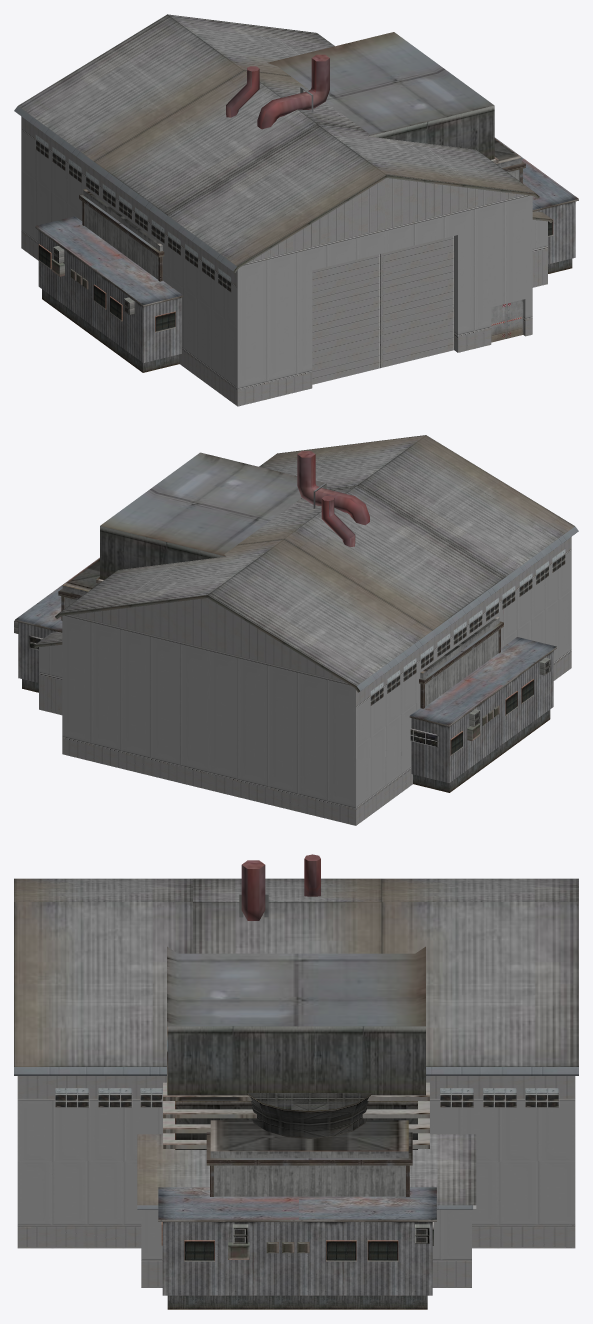
File: port_sheds.glb
3 renders of one model, top to bottom at view 1: azimuth 30°, elevation 25°; view 2: azimuth 150°, elevation 25°; view 3: azimuth 270°, elevation 25°, orthographic. The views are drawn at different scales.
Parts seen in each view (by area): view 1: shed_warehouse_3, shed_works_1, shed_generic_4, shed_works_2; view 2: shed_warehouse_3, shed_works_1, shed_generic_4, shed_works_2; view 3: shed_warehouse_3, shed_works_1, shed_generic_4, shed_works_2.
Boxes of the visible parts, x1,y1,x2,y2 form: shed_warehouse_3: (14,14,552,406); shed_works_1: (226,32,498,163); shed_generic_4: (35,137,578,372); shed_works_2: (79,138,525,281); shed_warehouse_3: (33,435,578,825); shed_works_1: (96,451,369,583); shed_generic_4: (14,557,556,792); shed_works_2: (58,558,503,708); shed_warehouse_3: (14,878,578,1287); shed_works_1: (163,854,429,1149); shed_generic_4: (158,1187,436,1309); shed_works_2: (206,1093,412,1196).
Bounding box in the file's own units: 3.5 × 1.8 × 3.
5 materials, 5 textured.
